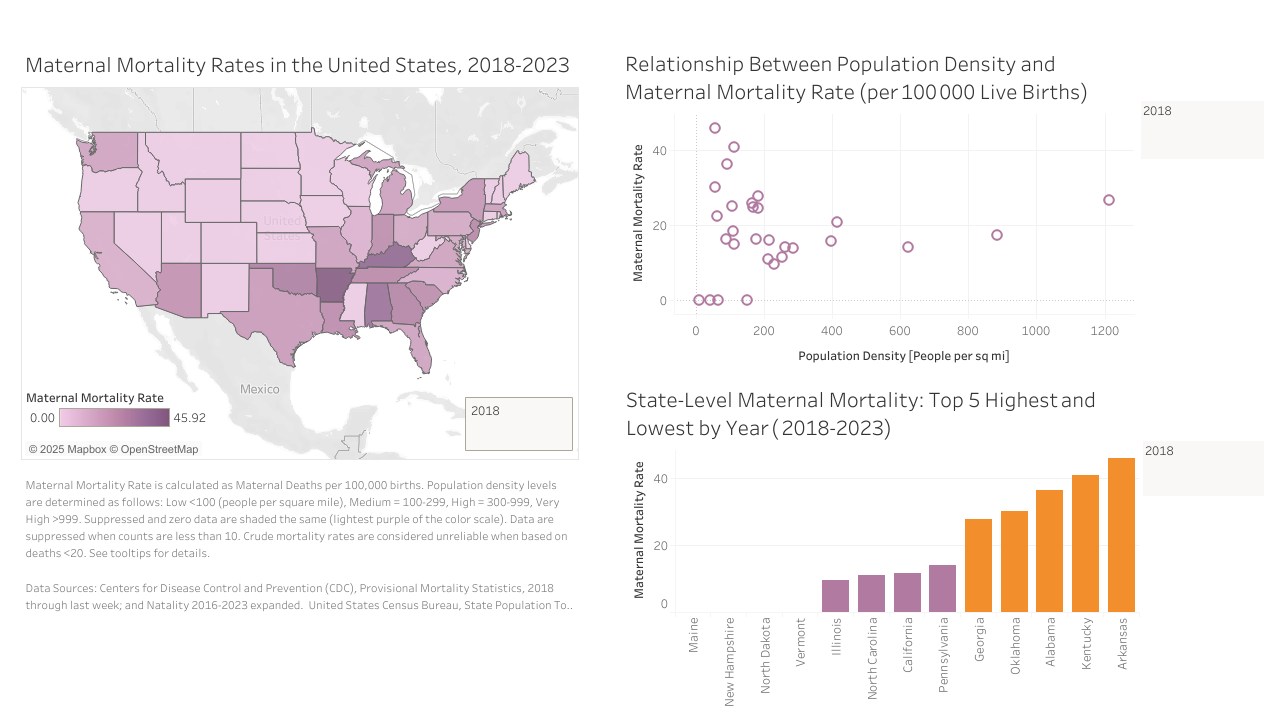

This screenshot's page, from the dashboard's own definition file:
{"tool":"tableau","page":{"name":"United States Maternal Mortality Dashboard: Comparing with Population Density","canvas":[1280,720],"ordinal":0},"visuals":[{"type":"worksheet","title":"Relationship Between Population Density and Maternal Mortality Rate (per 100 000 Live Births)","mark":"Automatic","rows":["Maternal Mortality Rate"],"cols":["Population Density"],"box":[621,43,513,328]},{"type":"worksheet","title":"Maternal Mortality Rates in the United States, 2018-2023","mark":"Automatic","box":[21,44,558,416]},{"type":"filter","title":"Relationship Between Population Density and Maternal Mortality Rate (per 100 000 Live Births)","param":"[federated.0ob5o4312kirdi17dq13e0o6n75z].[yr:Year:ok]","box":[1141,101,123,58]},{"type":"worksheet","title":"State‑Level Maternal Mortality: Top 5 Highest and Lowest by Year ( 2018-2023)","mark":"Automatic","rows":["Maternal Mortality Rate"],"cols":["Residence State"],"box":[622,379,517,333]},{"type":"legend","title":"Maternal Mortality Rates in the United States, 2018-2023","param":"[federated.0ob5o4312kirdi17dq13e0o6n75z].[sum:Maternal Mortality Rate:qk]","box":[26,384,185,52]},{"type":"filter","title":"Maternal Mortality Rates in the United States, 2018-2023","param":"[federated.0ob5o4312kirdi17dq13e0o6n75z].[yr:Year:ok]","box":[465,397,108,54]},{"type":"filter","title":"State‑Level Maternal Mortality: Top 5 Highest and Lowest by Year ( 2018-2023)","param":"[federated.0ob5o4312kirdi17dq13e0o6n75z].[yr:Year:ok]","box":[1143,441,121,55]},{"type":"text","box":[23,468,554,152]}]}

Visuals, with their boxes in screenshot pixels (x1, y1, x2, y2), scaled from the page's 1280x720 canvas onto the 1279x719 screenshot:
"Relationship Between Population Density and Maternal Mortality Rate (per 100 000 Live Births)" worksheet: 621 43 1133 370
"Maternal Mortality Rates in the United States, 2018-2023" worksheet: 21 44 579 459
"Relationship Between Population Density and Maternal Mortality Rate (per 100 000 Live Births)" filter: 1140 101 1263 159
"State‑Level Maternal Mortality: Top 5 Highest and Lowest by Year ( 2018-2023)" worksheet: 622 378 1138 711
"Maternal Mortality Rates in the United States, 2018-2023" legend: 26 383 211 435
"Maternal Mortality Rates in the United States, 2018-2023" filter: 465 396 573 450
"State‑Level Maternal Mortality: Top 5 Highest and Lowest by Year ( 2018-2023)" filter: 1142 440 1263 495
text: 23 467 577 619
